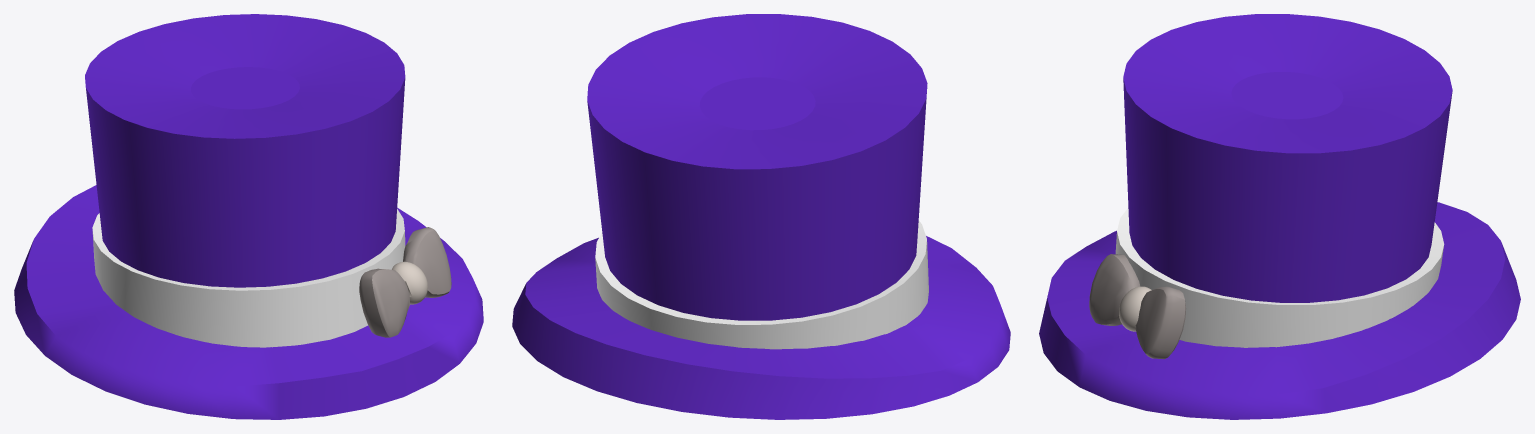
Rendered from tophat.glb.
3 renders of one model, left to right at view 1: azimuth 30°, elevation 25°; view 2: azimuth 150°, elevation 25°; view 3: azimuth 270°, elevation 25°, orthographic. The views are drawn at different scales.
Parts seen in each view (by area): view 1: Cylinder, Plane.001; view 2: Cylinder; view 3: Cylinder, Plane.001.
Part boxes in pixels (left/top/right/bottom): Cylinder: left=14, top=14, right=483, bottom=419; Plane.001: left=359, top=227, right=451, bottom=337; Cylinder: left=512, top=14, right=1010, bottom=419; Cylinder: left=1039, top=14, right=1520, bottom=419; Plane.001: left=1089, top=254, right=1186, bottom=359.
Bounding box in the file's own units: 2.05 × 1.2 × 2.05.
